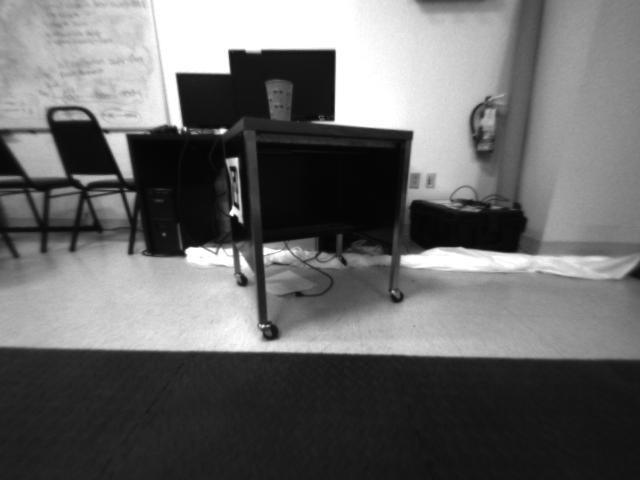coffee_cup: (260, 76, 297, 122)
